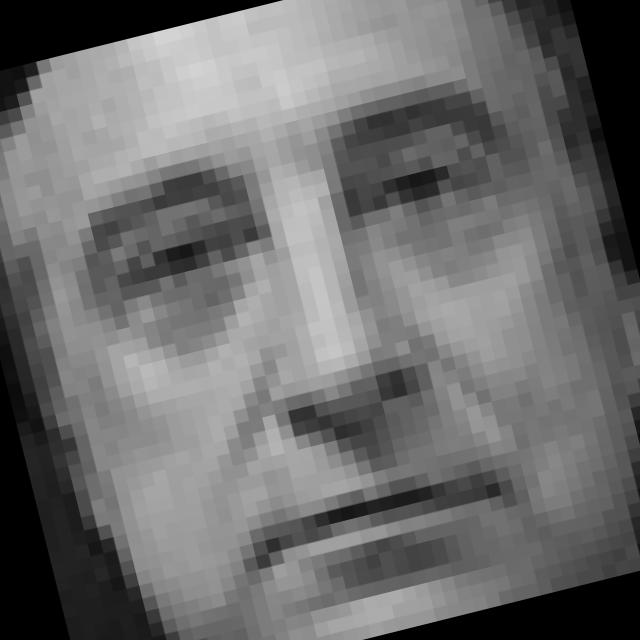neutral: (56, 65, 623, 640)
